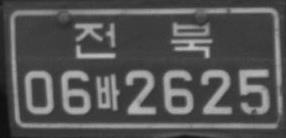0: (23, 69, 55, 114)
2: (200, 68, 233, 116), (125, 68, 157, 116)
5: (237, 68, 271, 115)
6: (162, 68, 194, 115), (60, 69, 92, 115)
바: (95, 72, 120, 111)
전북_D: (73, 20, 212, 58)
